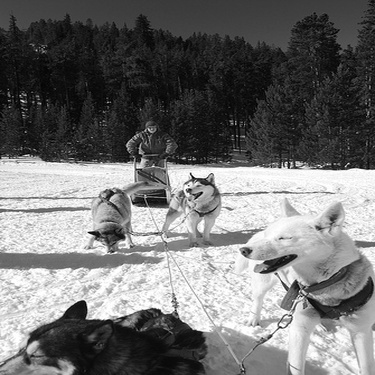dog: (234, 188, 370, 372), (2, 298, 207, 366), (78, 169, 153, 258), (158, 167, 226, 251)
